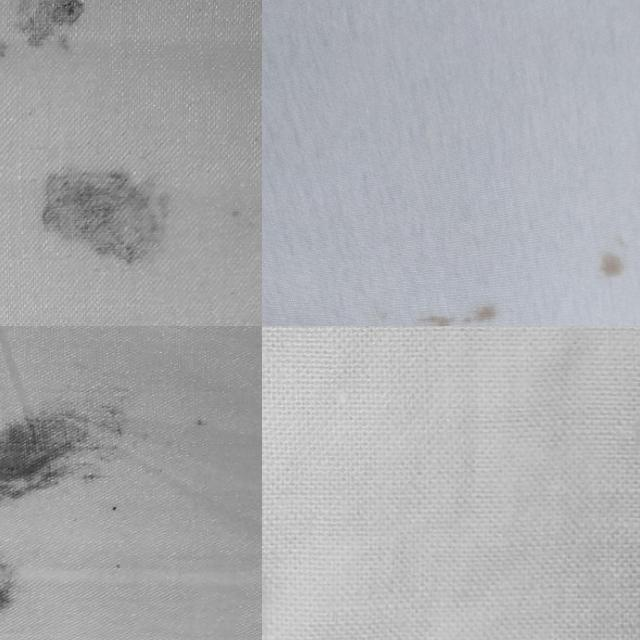Thread_other: (0, 326, 243, 640), (24, 150, 204, 278), (380, 266, 543, 326), (568, 205, 640, 326)
